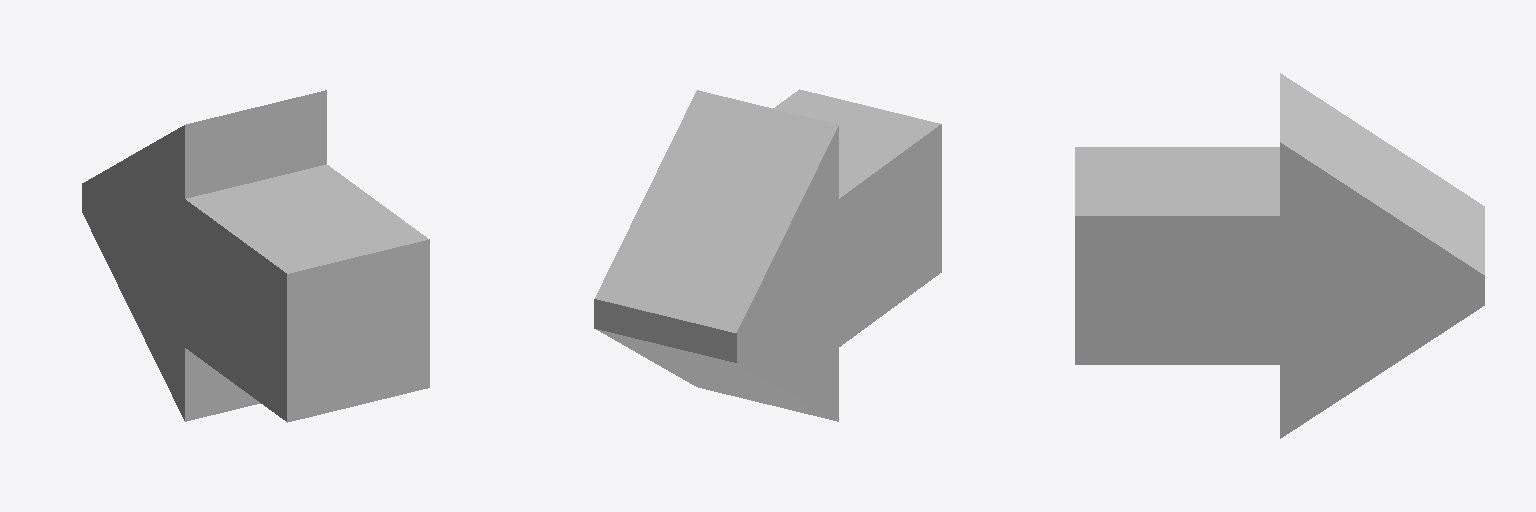
Rendered from arrow.obj.
The picture shows the model from 3 angles: view 1: azimuth 30°, elevation 25°; view 2: azimuth 150°, elevation 25°; view 3: azimuth 270°, elevation 25°; orthographic projection.
Visible parts, largest first — view 1: Cube_Cube.001; view 2: Cube_Cube.001; view 3: Cube_Cube.001.
Part boxes in pixels (x1,y1,x2,y2): Cube_Cube.001: (82, 90, 429, 422); Cube_Cube.001: (594, 89, 941, 421); Cube_Cube.001: (1075, 73, 1484, 438).
Bounding box in the file's own units: 0.99 × 1.98 × 2.48.